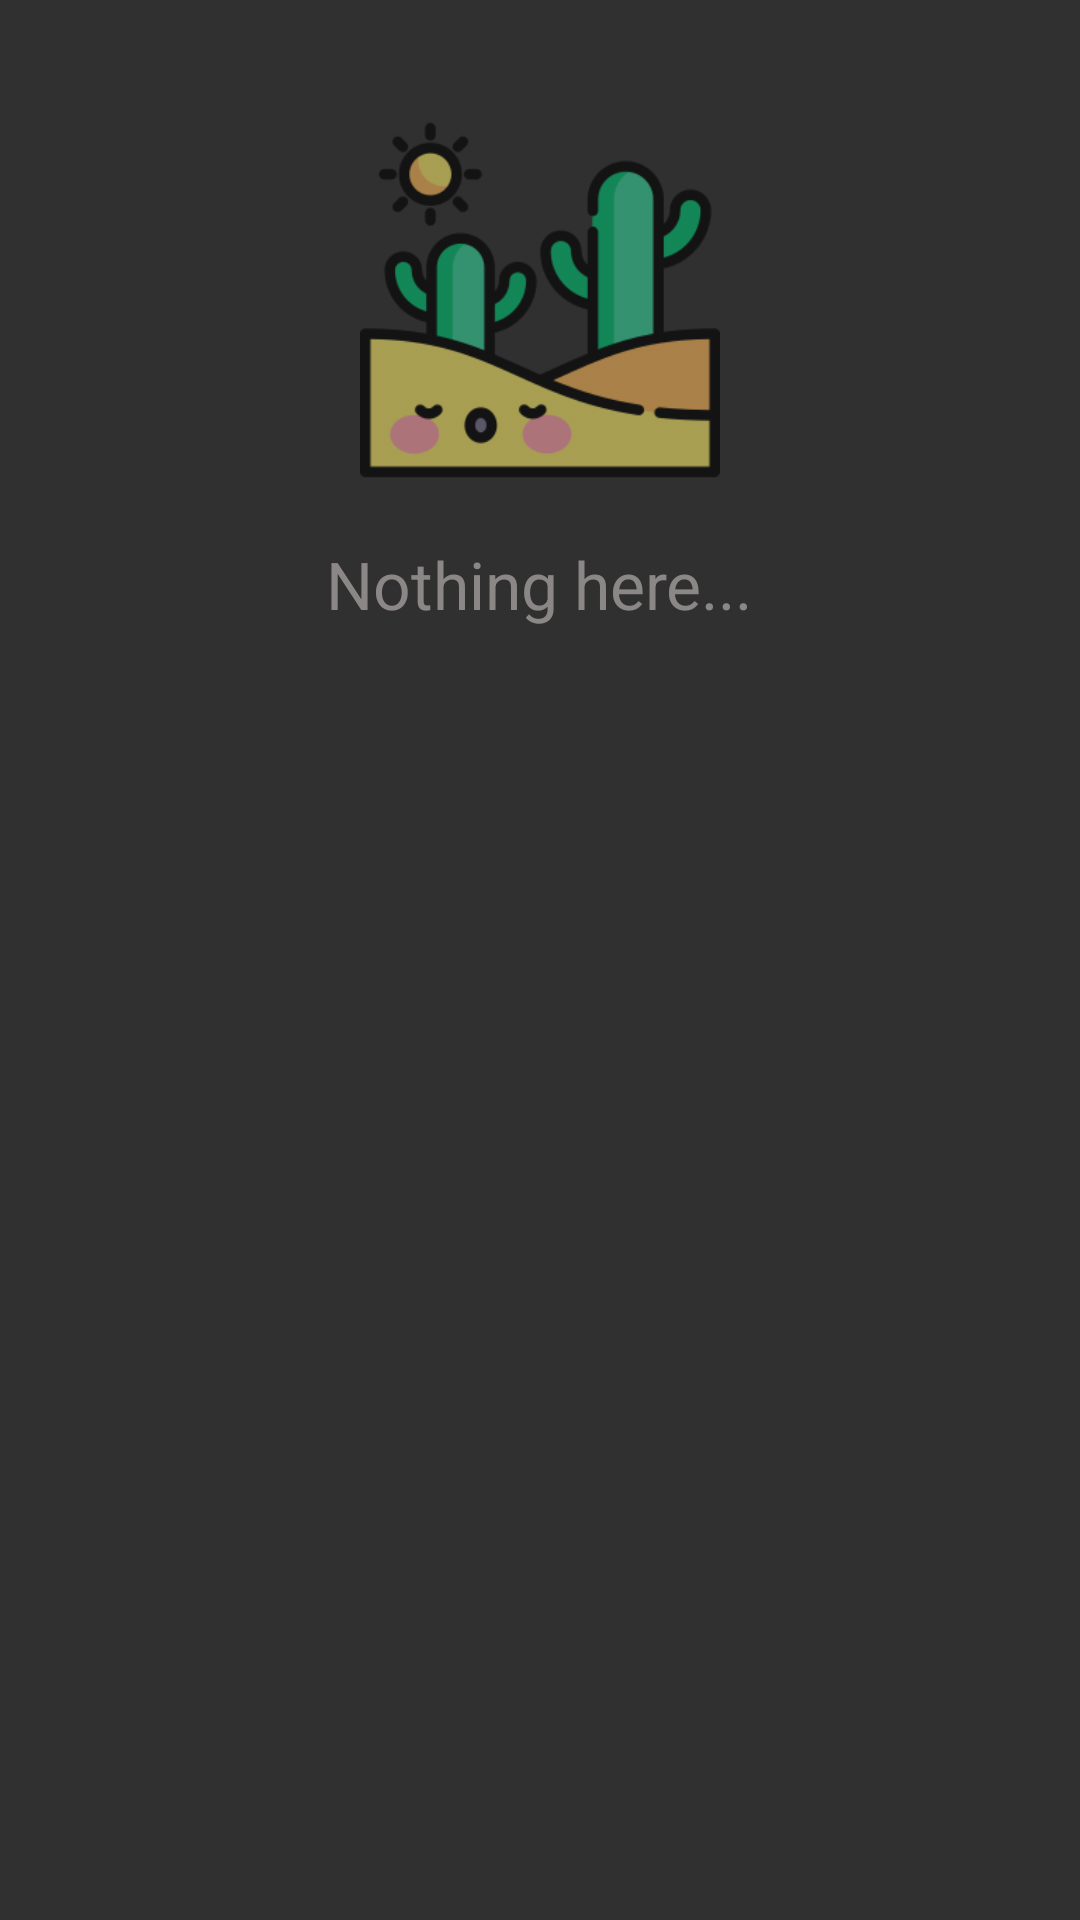

Icon click points for this 1080x1920 phone screenshot, format (x=x, y=y):
desert: (x=540, y=300)
